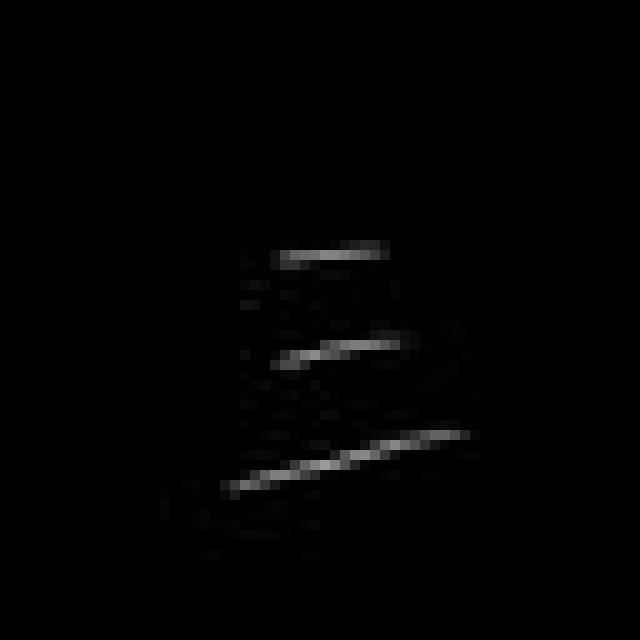3 -three-: (215, 220, 482, 507)
